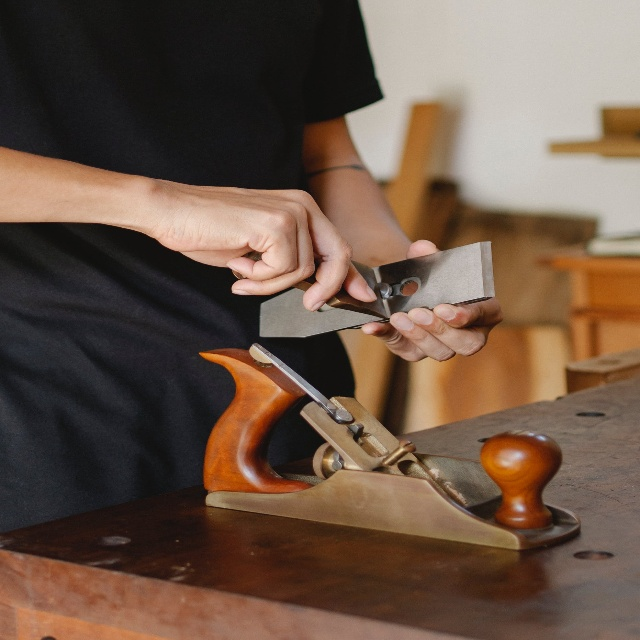Sin_guantes: (151, 180, 378, 313), (362, 237, 504, 363)
